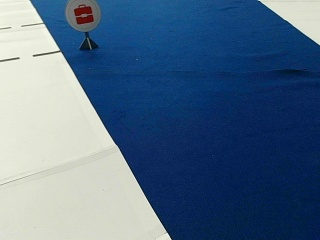company: (65, 1, 101, 31)
